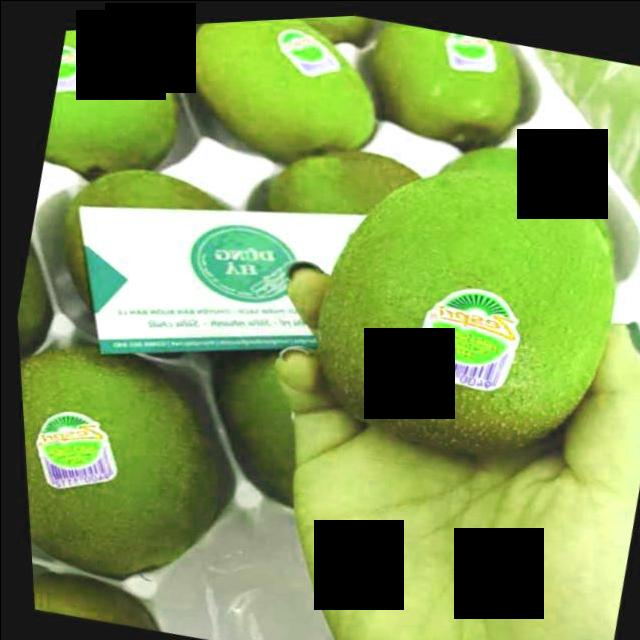kiwi: (285, 126, 640, 488), (16, 310, 234, 587), (168, 12, 377, 165)
